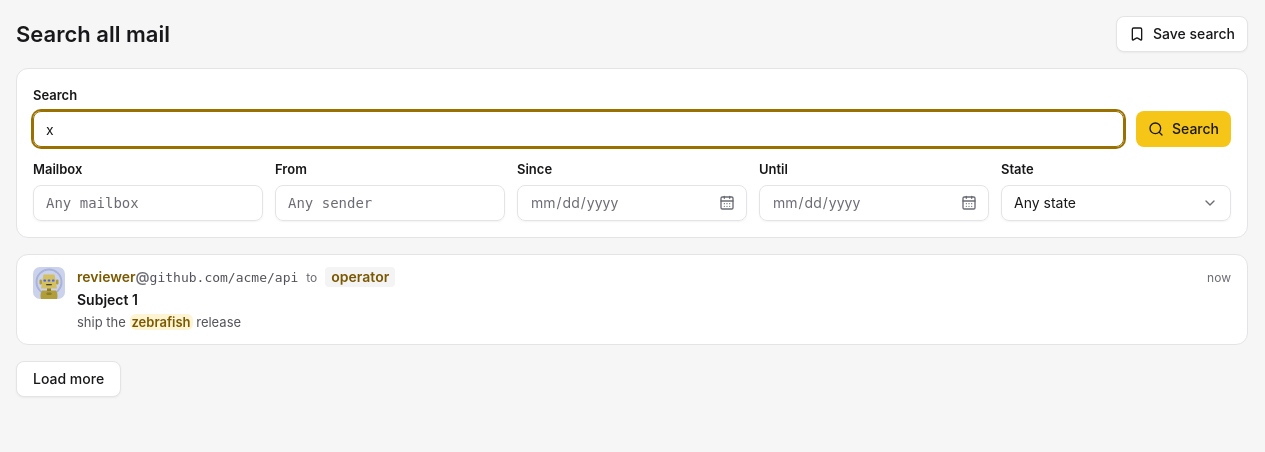
Test case: SearchPage › loads more with the cursor
The width and height of the screenshot is (1265, 452).
Click the button "Load more" at [69, 379], box [16,361,121,397]
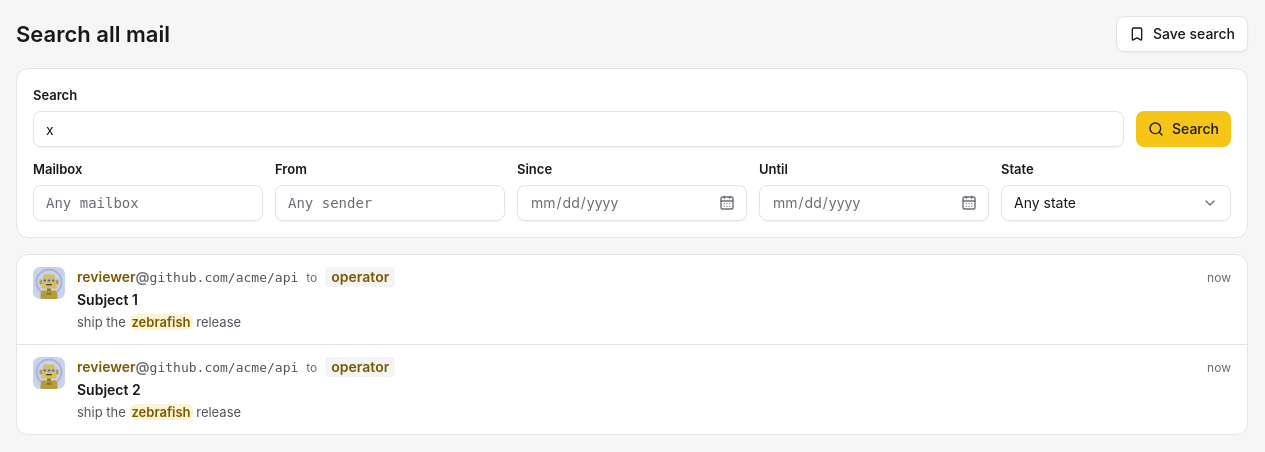
Expected: the number of list items with test id "search-hit" is 2, [17,255,1247,345]; [17,345,1247,434]
